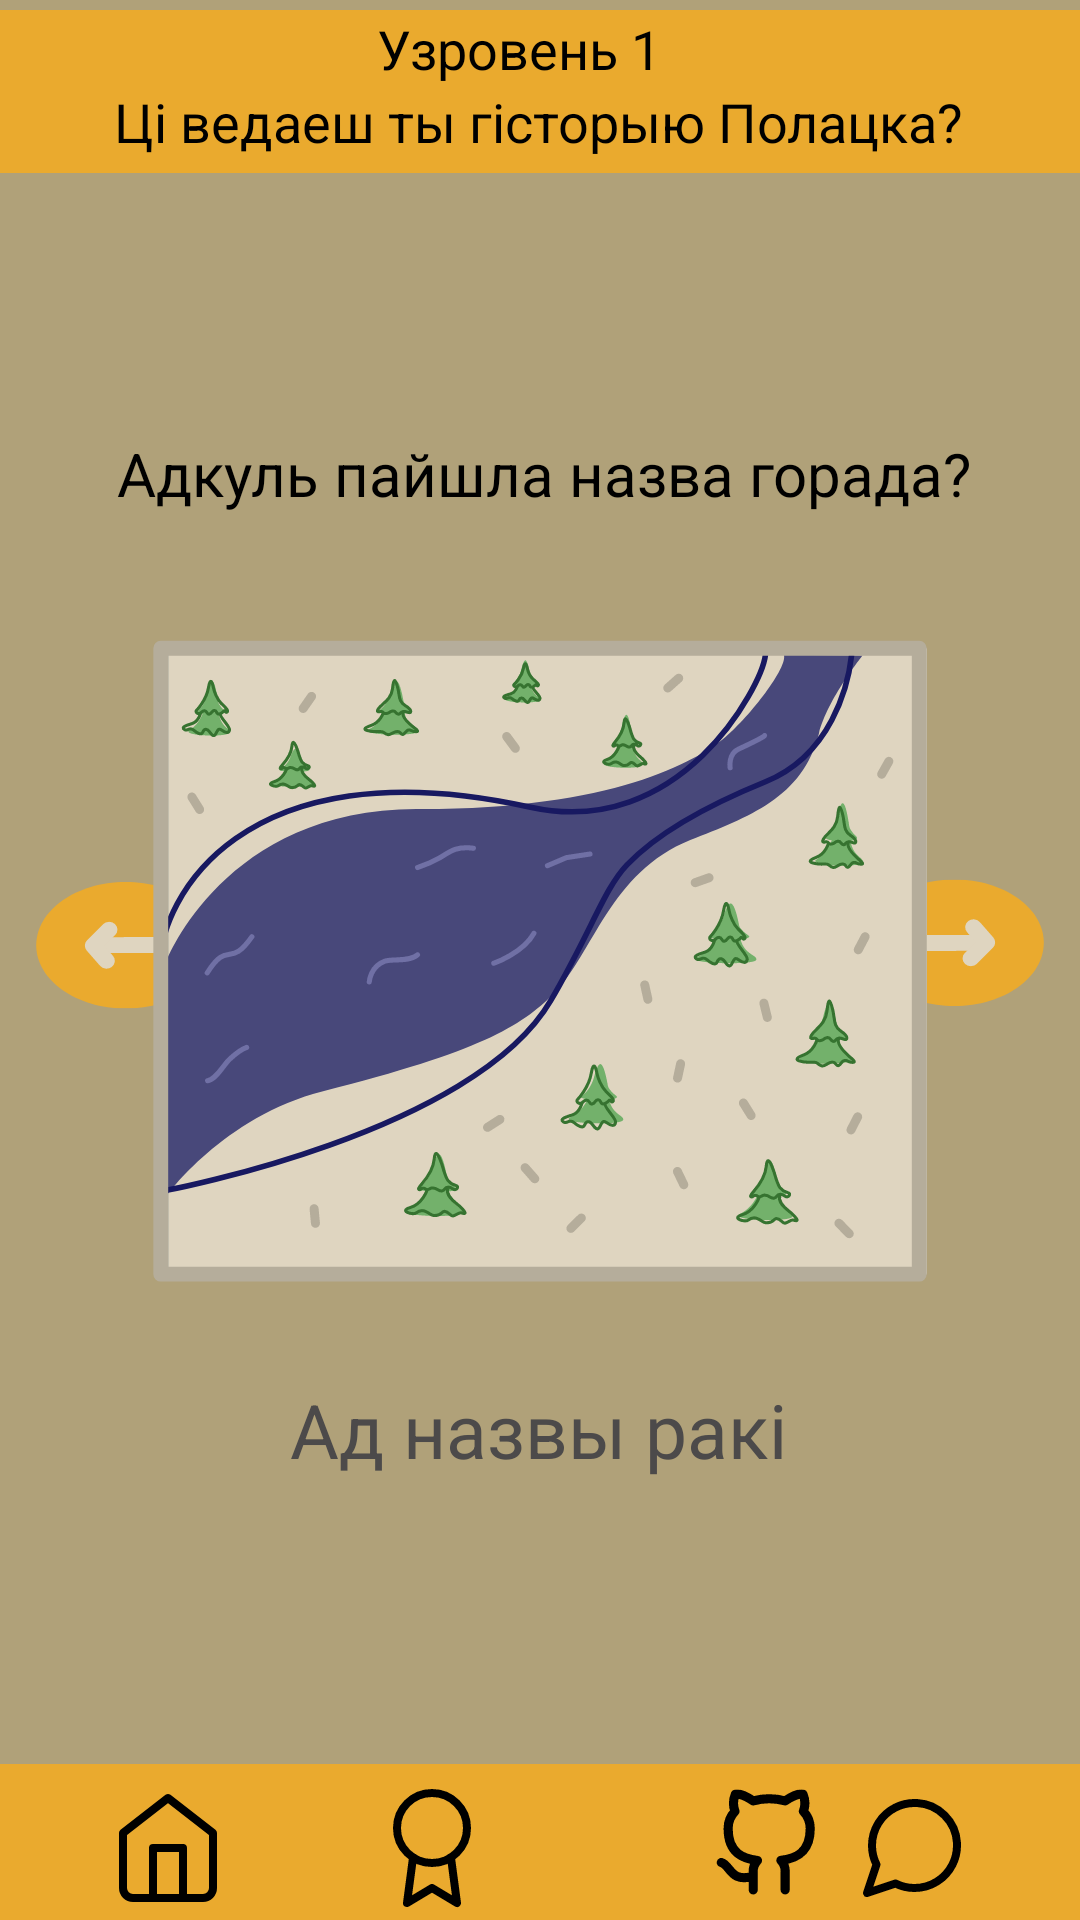

Icon bounding boxes for this 1080×1920 phone screenshot, format (x1, y1, x2, y2):
award: (393, 1789, 471, 1908)
home: (119, 1794, 217, 1902)
message circle: (863, 1799, 961, 1897)
